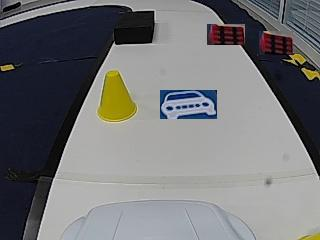block: (114, 11, 155, 44)
cone: (96, 71, 137, 122)
